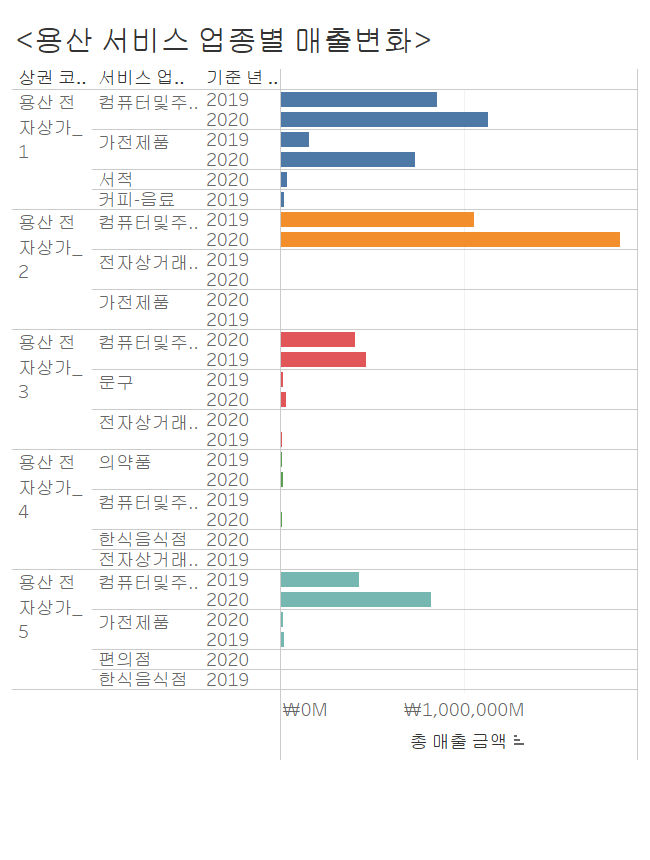

The page's visual inventory and layout, read from the dashboard file:
{"tool":"tableau","page":{"name":"대시보드 3","canvas":[650,340],"ordinal":2},"visuals":[{"type":"worksheet","title":"2019-2020","mark":"Automatic","rows":["상권_구분_코드","상권_구분_코드_명","기준_년_코드"],"cols":["Calculation_1875467832722706446"],"box":[8,8,634,324]}]}

Visuals, with their boxes on the page's 650x340 design canvas (x1, y1, x2, y2). These are canvas units, not pixel positions in the 650x860 screenshot, which may show the page scaled, cropped or inside an application window:
"2019-2020" worksheet: 8 8 642 332
